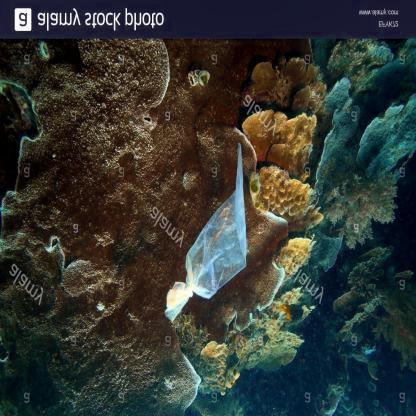pbag: (157, 132, 254, 324)
